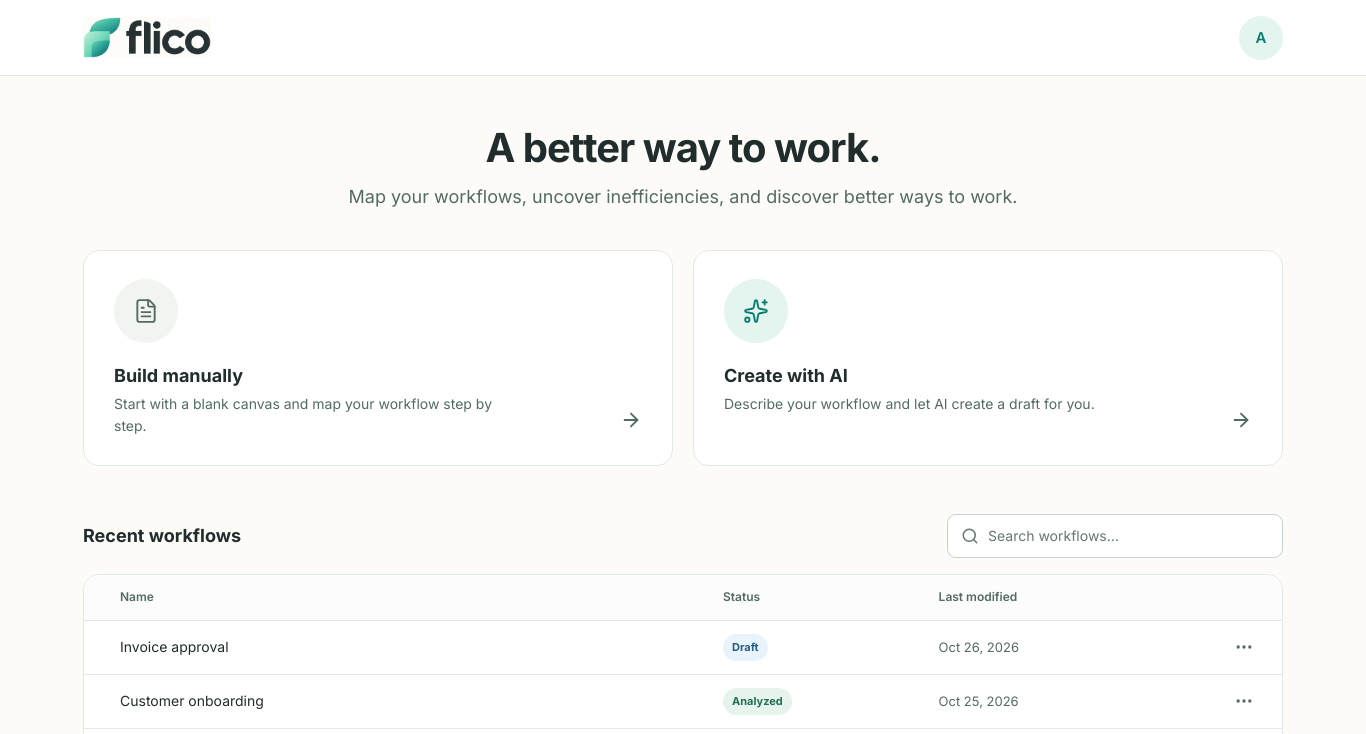
Test: dashboard › filters live by name, case-insensitively, and says when nothing matches (D04)
Type "ON" into the search field labelled "Search workflows".
click(1115, 536); type("ON")  # box [947,514,1283,558]
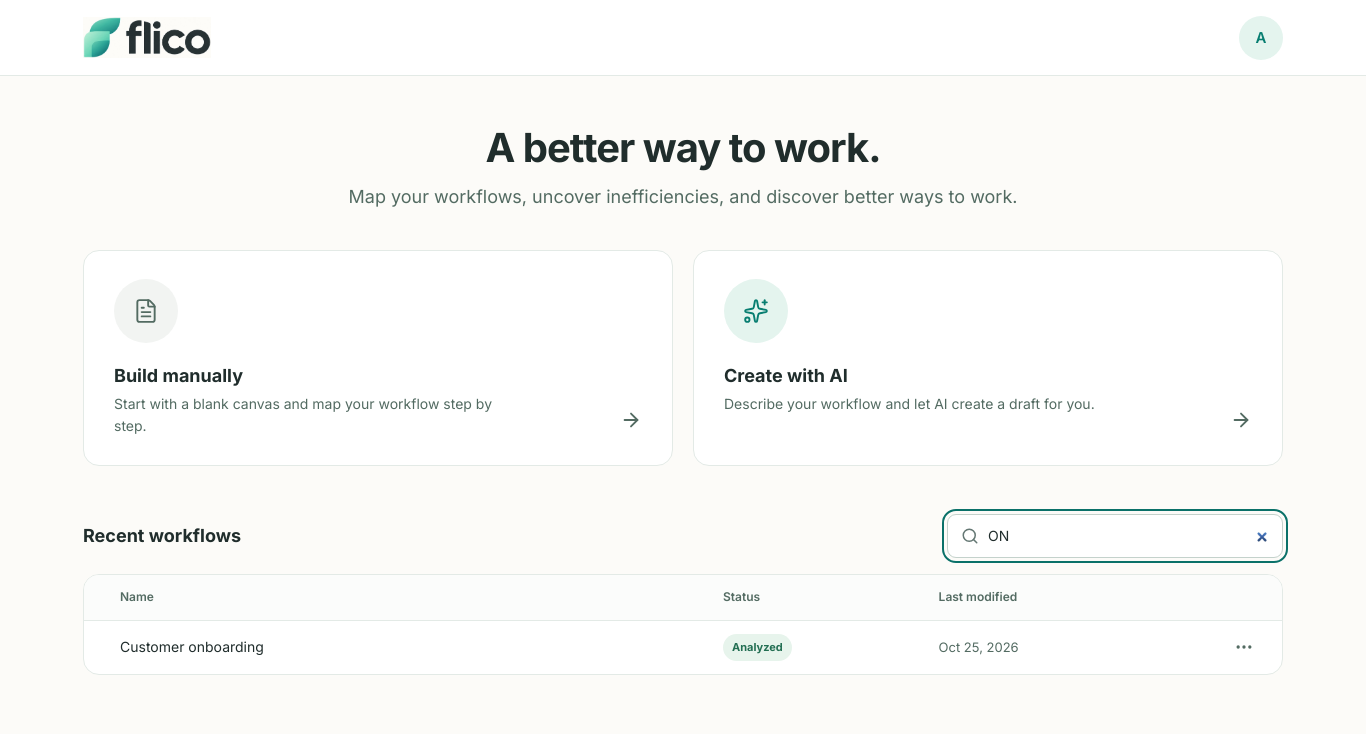
Replace the text in the search field named "Search workflows" with "zzz" at (1115,536), box [947,514,1283,558]
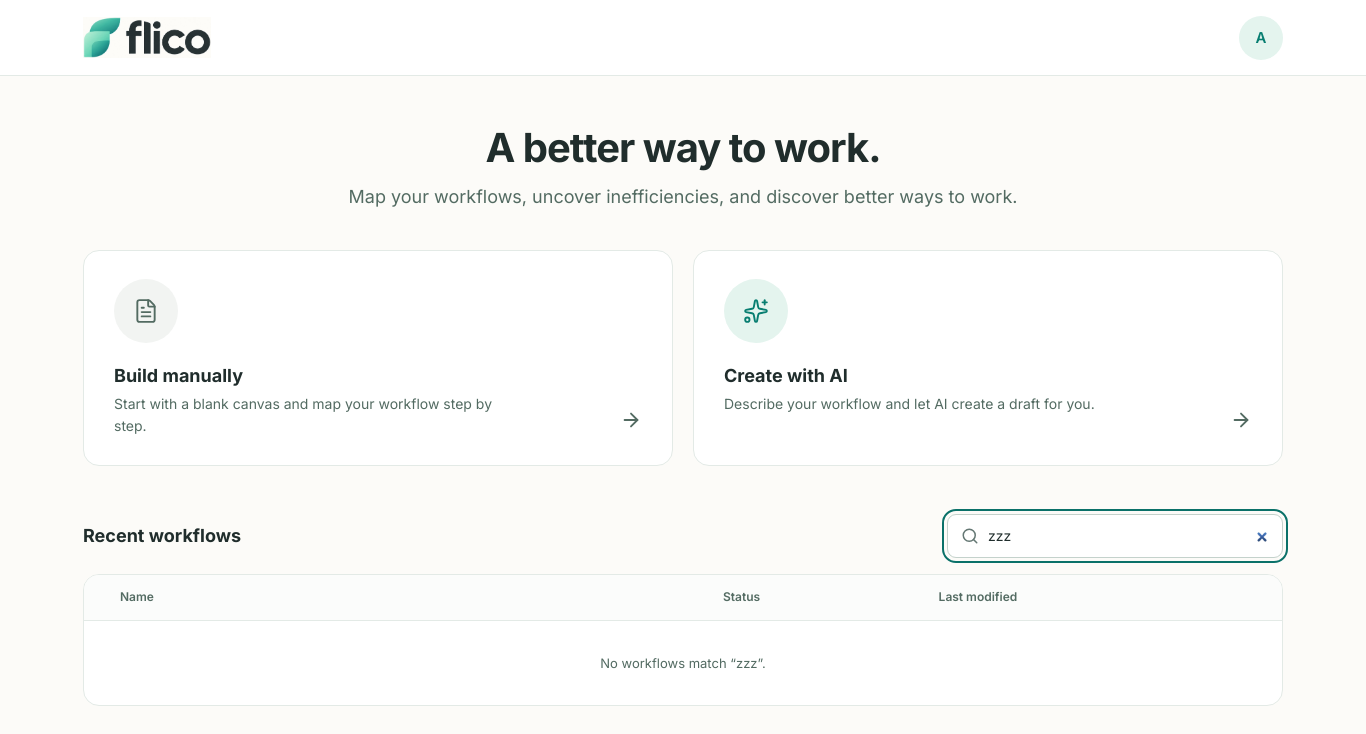
Expected: the text "No workflows match “zzz”." is shown, [84,620,1282,705]
